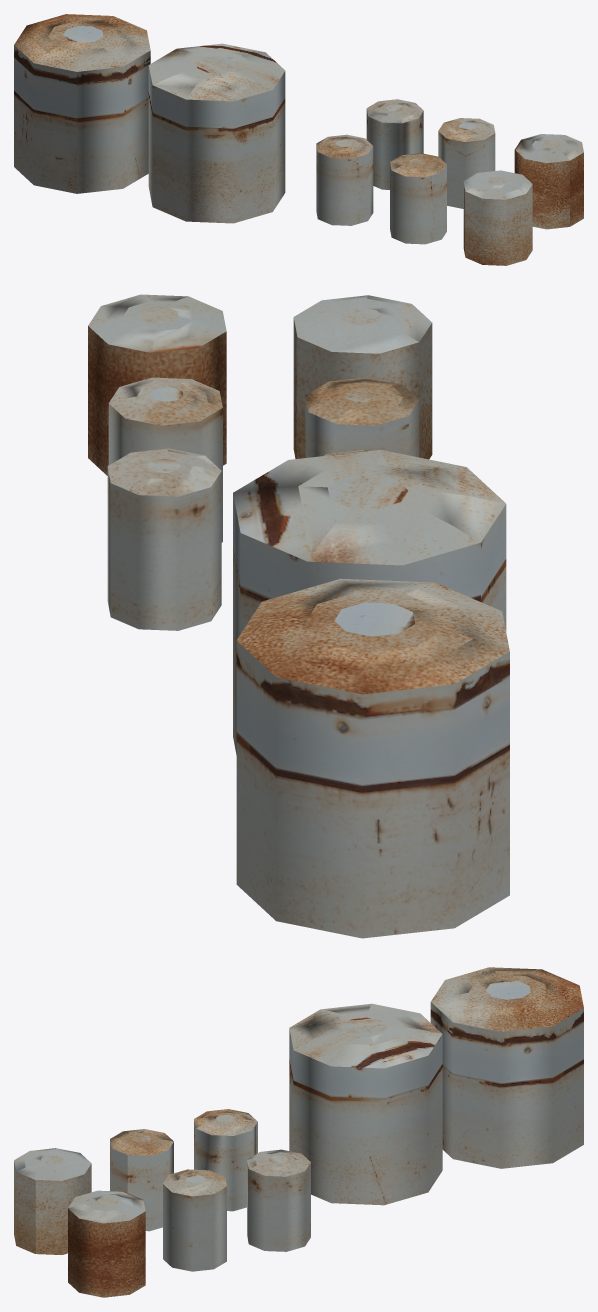
File: youguan_01_02.fbx
3 renders of one model, top to bottom at view 1: azimuth 30°, elevation 25°; view 2: azimuth 150°, elevation 25°; view 3: azimuth 270°, elevation 25°, orthographic. The views are drawn at different scales.
Visible parts, largest first — view 1: Youguan_01_02; view 2: Youguan_01_02; view 3: Youguan_01_02.
Part boxes in pixels (box(x1,y1,x2,y2)): Youguan_01_02: box(14, 14, 583, 265); Youguan_01_02: box(88, 294, 509, 938); Youguan_01_02: box(14, 967, 583, 1297).
Bounding box in the file's own units: 3957 × 1309 × 4630.
